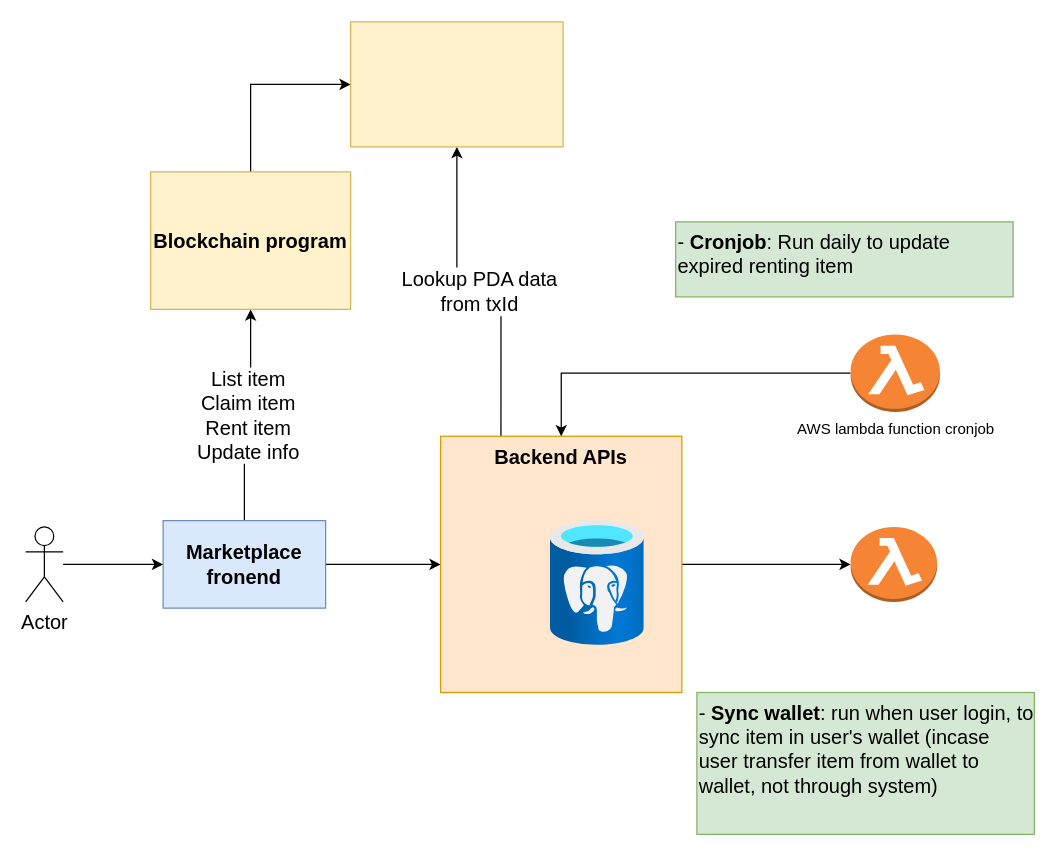
Image size: 1056x856. Some labels were removed from this diagram. The centre of each missing label's shape, as x and y in pixels:
"AWS lambda function sync wallet" goes at point (893, 564).
"PDA (NFT will be keep here)" goes at point (456, 84).
"PostgreSQL database" goes at point (597, 582).
